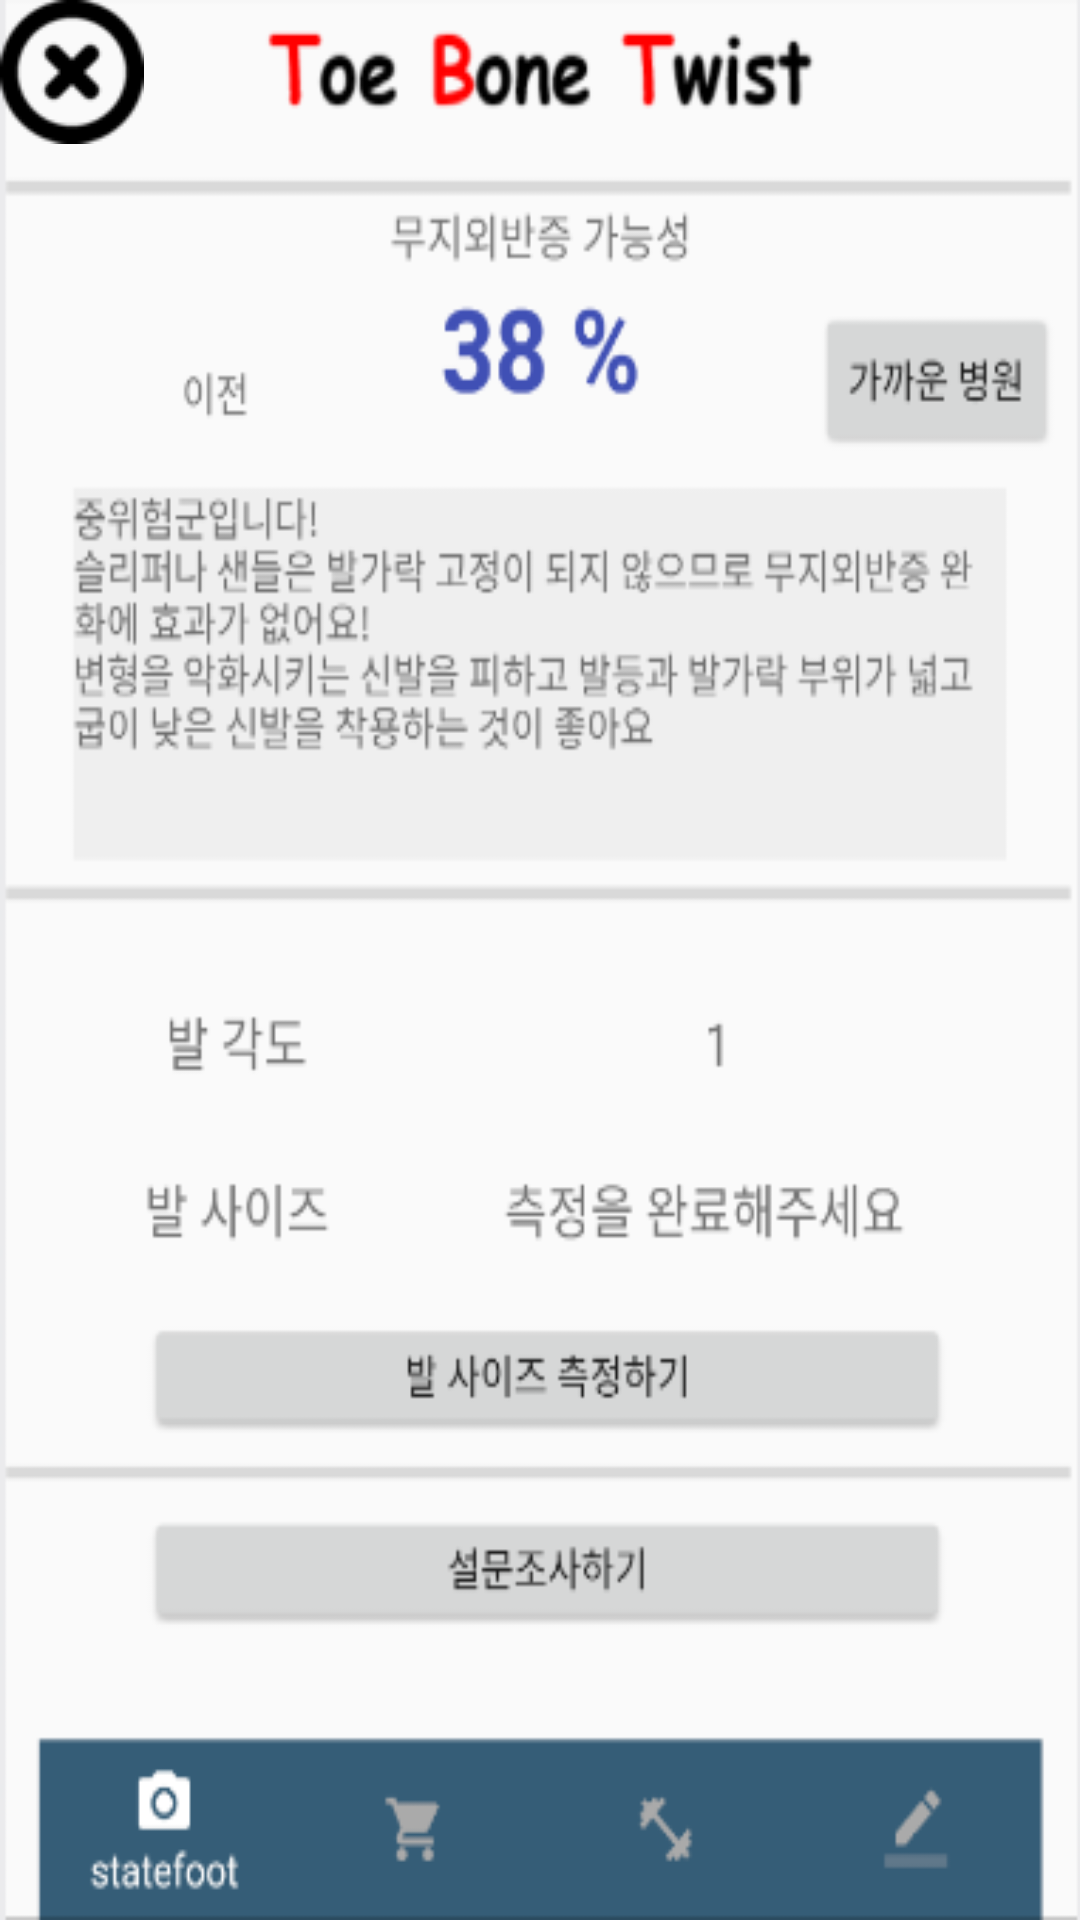

Locate icon controls on the screen. Image size 1080w x 1920h, boxes as (x1, y1, x2, y2).
xbutton: (0, 0, 144, 144)
